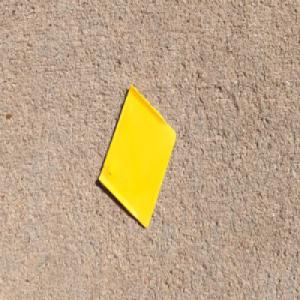PlasticPart: (96, 80, 177, 230)
